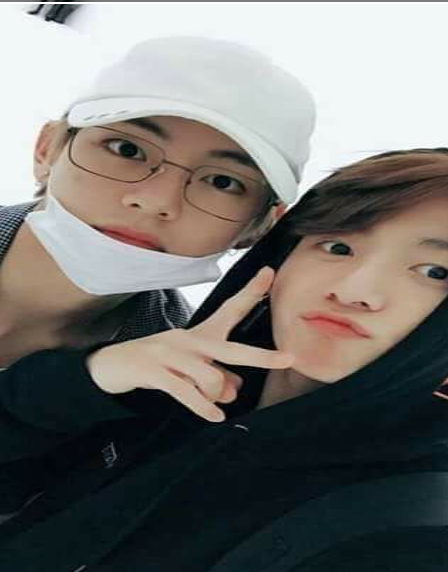mask_weared_incorrect: (36, 33, 310, 299)
